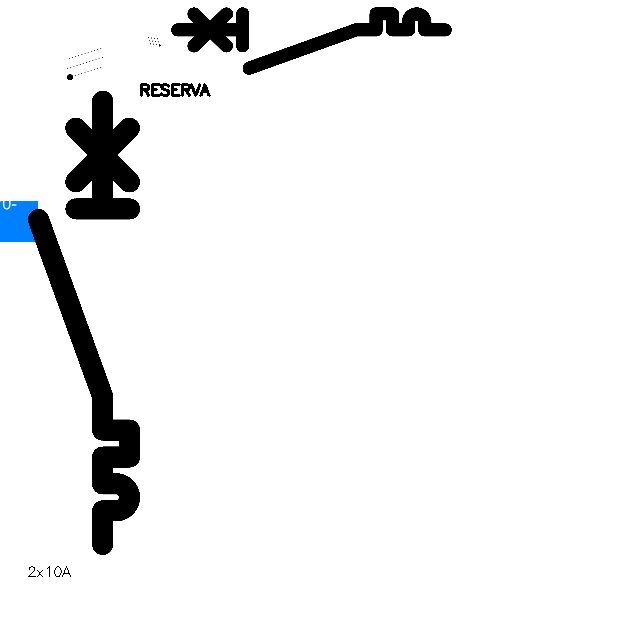interruptor_termomagnetico: (27, 89, 141, 556), (170, 7, 451, 75)
